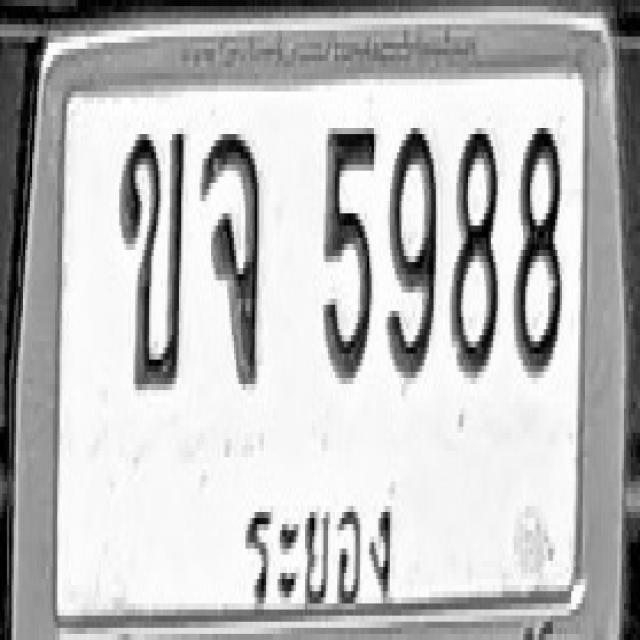11KhorKhai: (118, 128, 185, 390)
17ChorChan: (201, 128, 260, 384)
5: (322, 119, 375, 381)
8: (513, 122, 561, 378), (450, 122, 498, 378)
9: (387, 122, 437, 378)
